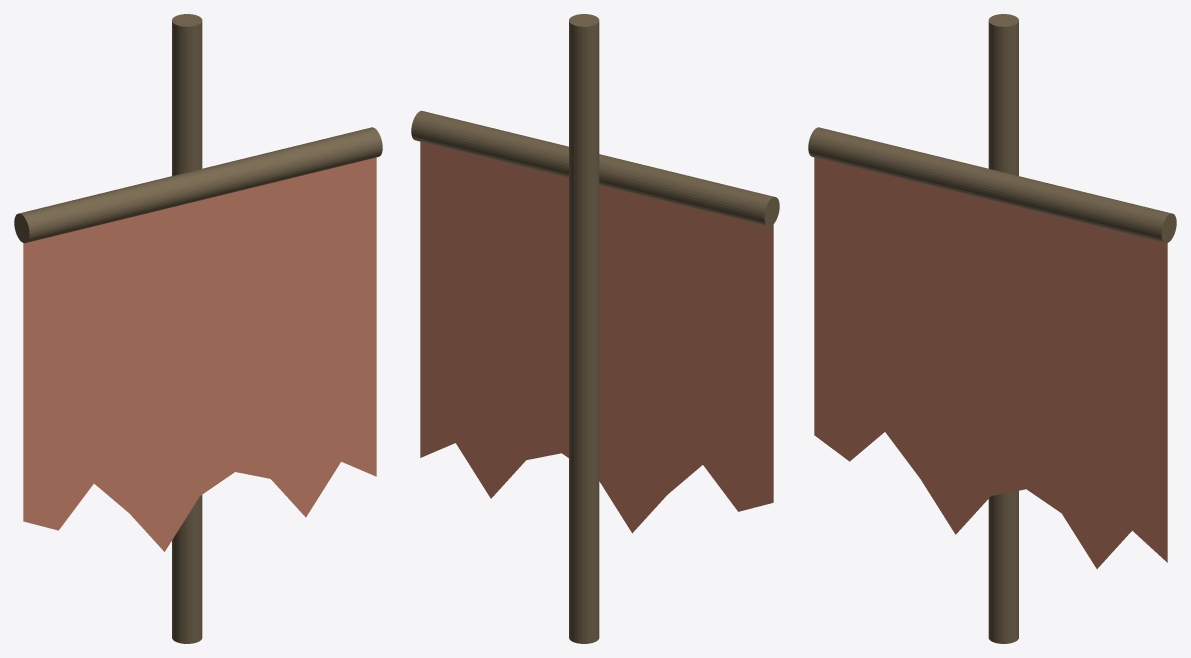
The model's file is NewChar3.fbx.
3 renders of one model, left to right at view 1: azimuth 30°, elevation 25°; view 2: azimuth 150°, elevation 25°; view 3: azimuth 330°, elevation 25°, orthographic.
Parts seen in each view (by area): view 1: Cylinder.001, Cylinder; view 2: Cylinder.001, Cylinder; view 3: Cylinder.001, Cylinder.
Boxes of the visible parts, <box> form: Cylinder.001: <box>23,157,376,551</box>; Cylinder: <box>14,14,382,643</box>; Cylinder.001: <box>420,141,773,533</box>; Cylinder: <box>411,14,779,643</box>; Cylinder.001: <box>814,157,1167,568</box>; Cylinder: <box>808,14,1176,643</box>.
Bounding box in the file's own units: 782 × 1305 × 102.
